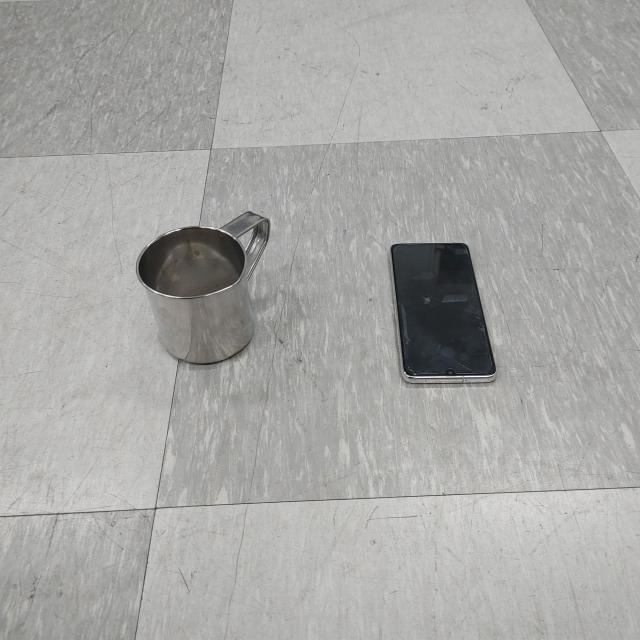cup: (137, 209, 271, 364)
phone: (386, 238, 499, 388)
